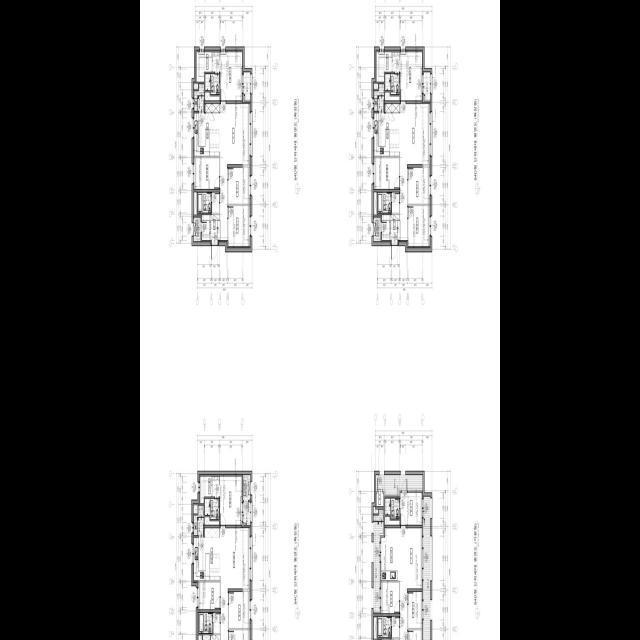background: (140, 0, 500, 640)
space_balconi: (373, 509, 383, 611), (424, 496, 431, 640), (376, 474, 423, 494), (194, 505, 204, 535), (374, 83, 384, 110), (194, 83, 204, 110), (424, 72, 430, 100), (244, 72, 250, 100), (243, 502, 250, 524)
space_bedroom: (392, 51, 422, 100), (213, 51, 242, 100), (220, 476, 242, 524), (408, 205, 430, 246), (228, 205, 250, 246), (228, 167, 250, 203), (408, 167, 430, 203), (229, 591, 250, 628), (400, 492, 422, 524), (408, 591, 422, 628), (229, 629, 250, 640), (408, 630, 422, 640)
space_dressroom: (377, 51, 392, 81), (197, 51, 212, 81), (200, 476, 212, 503)
space_front: (390, 214, 400, 244), (210, 214, 220, 244), (211, 635, 220, 640)
space_kitchen: (374, 103, 400, 156), (194, 103, 220, 156), (194, 528, 220, 580), (381, 527, 400, 580)
space_living_room: (400, 103, 430, 240), (220, 103, 250, 240), (220, 527, 250, 640), (400, 528, 422, 640)
space_other: (374, 157, 399, 189), (194, 157, 219, 189), (198, 582, 220, 609), (381, 582, 399, 613), (382, 214, 390, 240), (202, 214, 210, 240), (212, 476, 220, 496), (392, 616, 399, 637), (213, 612, 220, 633), (392, 192, 399, 212), (212, 192, 219, 212), (385, 516, 400, 524), (385, 92, 400, 100), (205, 92, 220, 100), (205, 516, 219, 524), (377, 491, 383, 506), (374, 192, 377, 214), (194, 192, 197, 214), (374, 617, 377, 638), (373, 506, 378, 513), (203, 635, 210, 640), (194, 504, 197, 513), (374, 83, 378, 89), (194, 83, 198, 89)
space_outdoor_room: (243, 474, 250, 500), (374, 217, 381, 241), (194, 217, 201, 241)
space_toilet: (385, 73, 399, 94), (205, 498, 219, 519), (205, 73, 219, 94), (385, 498, 399, 518), (378, 616, 391, 637), (378, 192, 391, 212), (199, 612, 212, 632), (198, 192, 211, 212)
